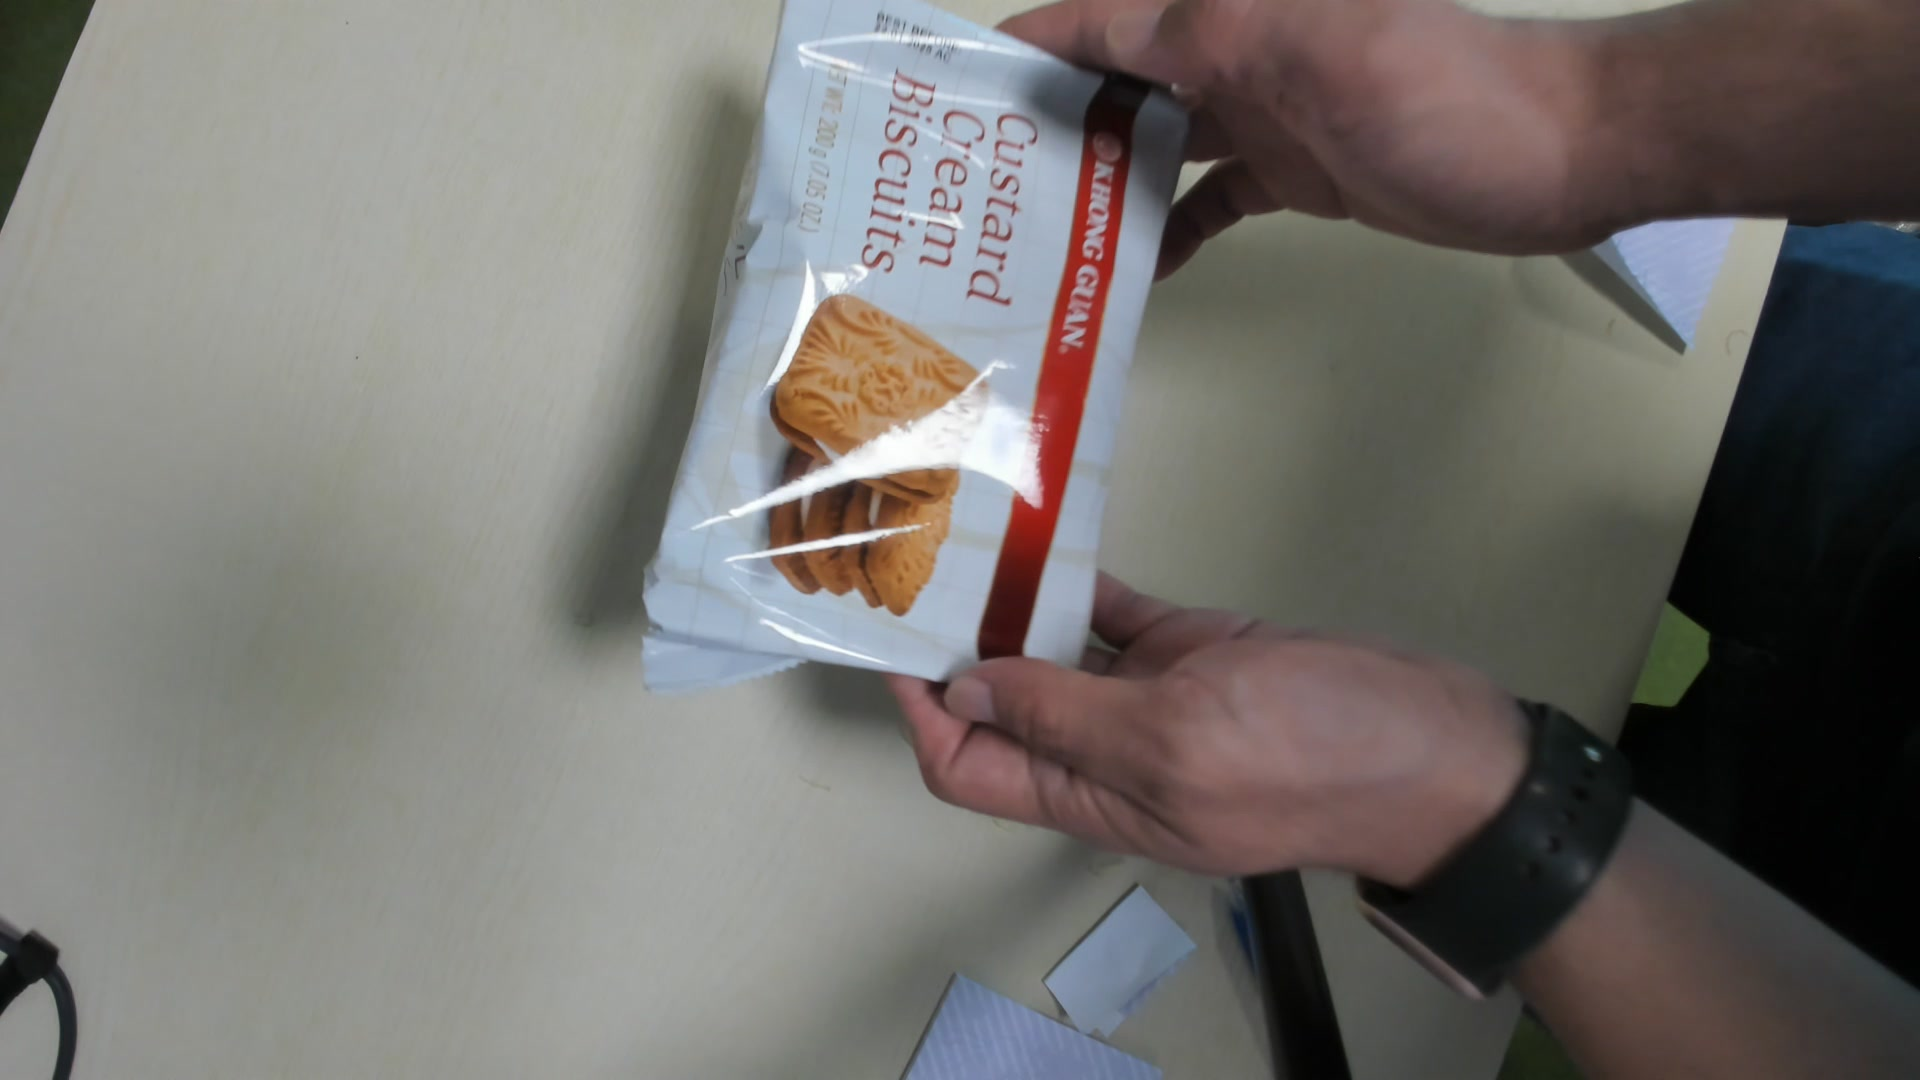BiscuitsCrackersCookies_200-299g_Halal_NonHealthy: (636, 5, 1179, 696)
